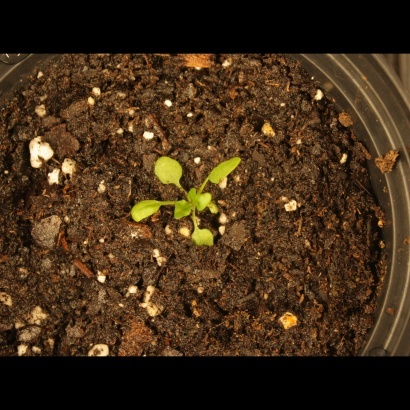leaf: (203, 148, 244, 189), (148, 148, 186, 190), (186, 222, 224, 258), (124, 196, 168, 225), (169, 200, 192, 223), (199, 193, 222, 216), (182, 181, 205, 204)
